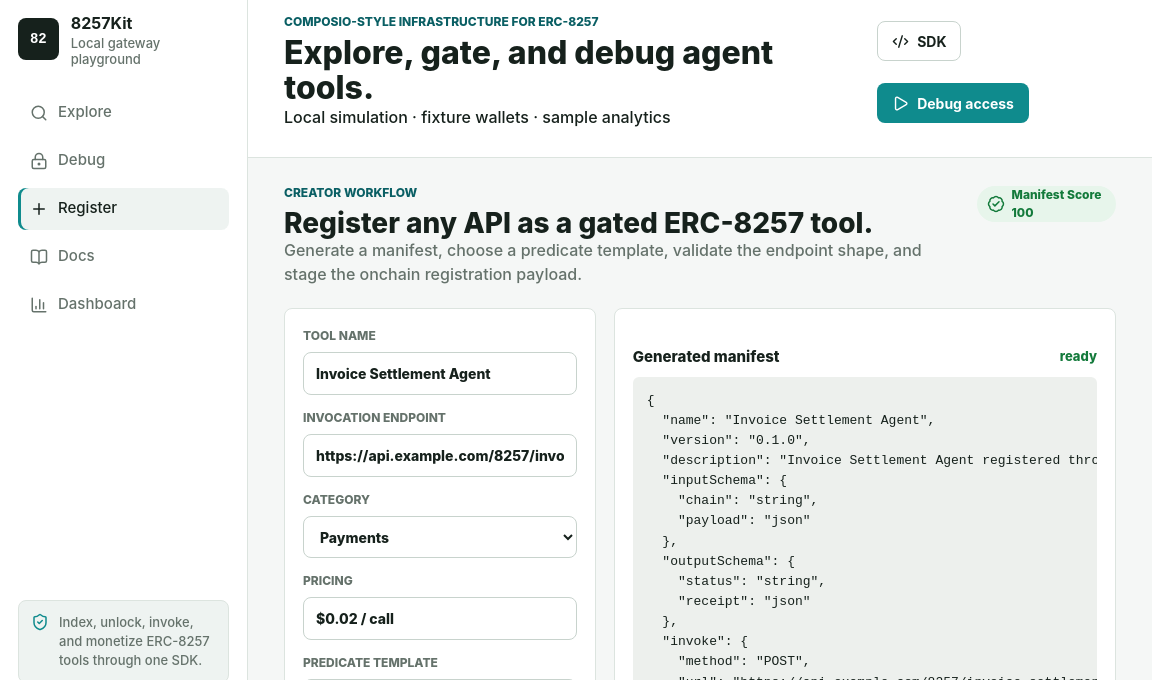
Test case: 8257Kit app › validates a creator registration draft before staging
Replace the text in the field labelled "Invocation endpoint" with "http://localhost:8787/invoke" at point(440, 456), box [303,434,577,477]
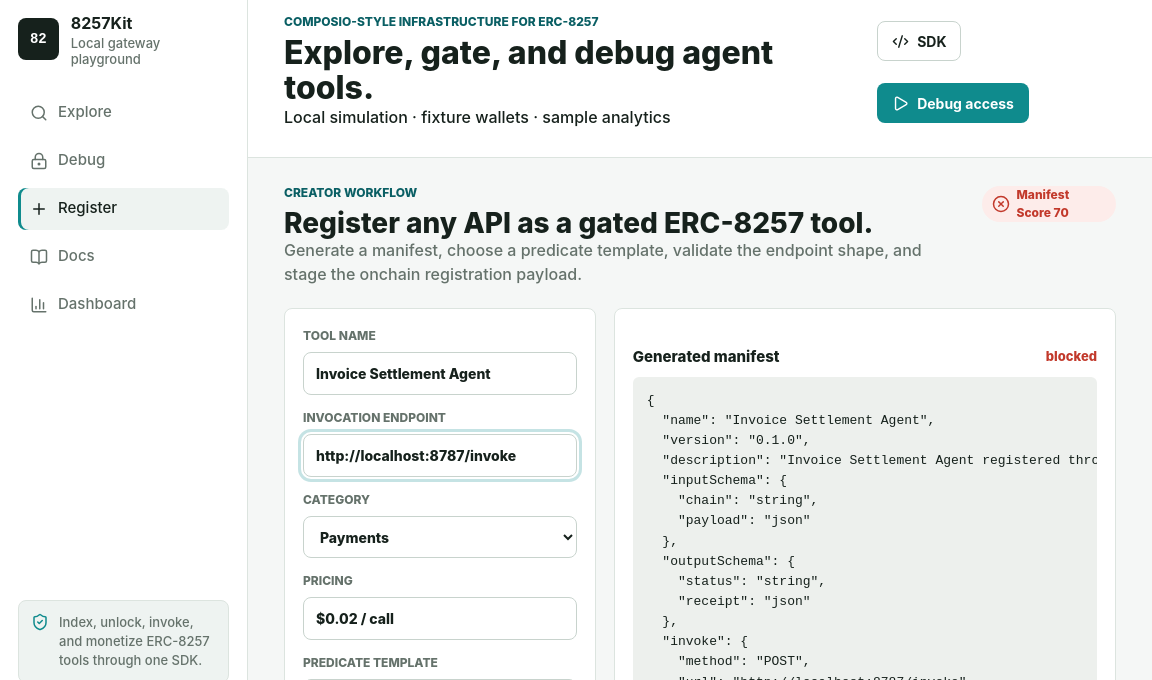
Replace the text in the field labelled "Invocation endpoint" with "https://api.example.com/8257/new-tool" at point(440, 456), box [303,434,577,477]
(page scrolled)
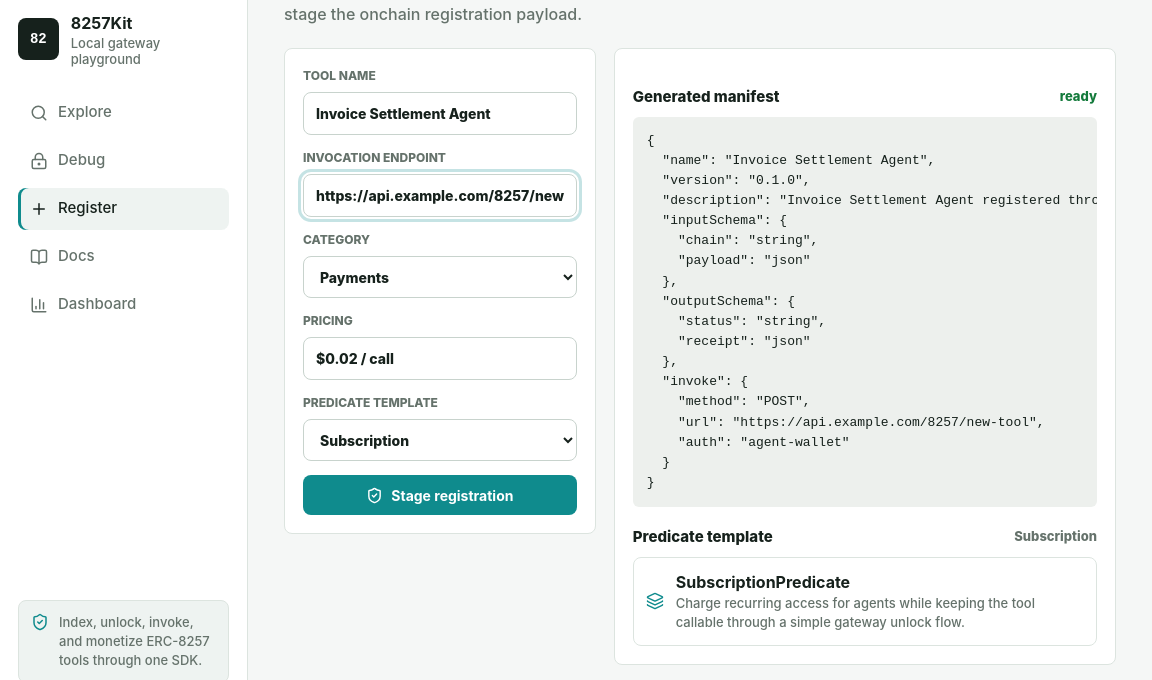
Click the button "Stage registration" at point(440, 495), box [303,475,577,515]
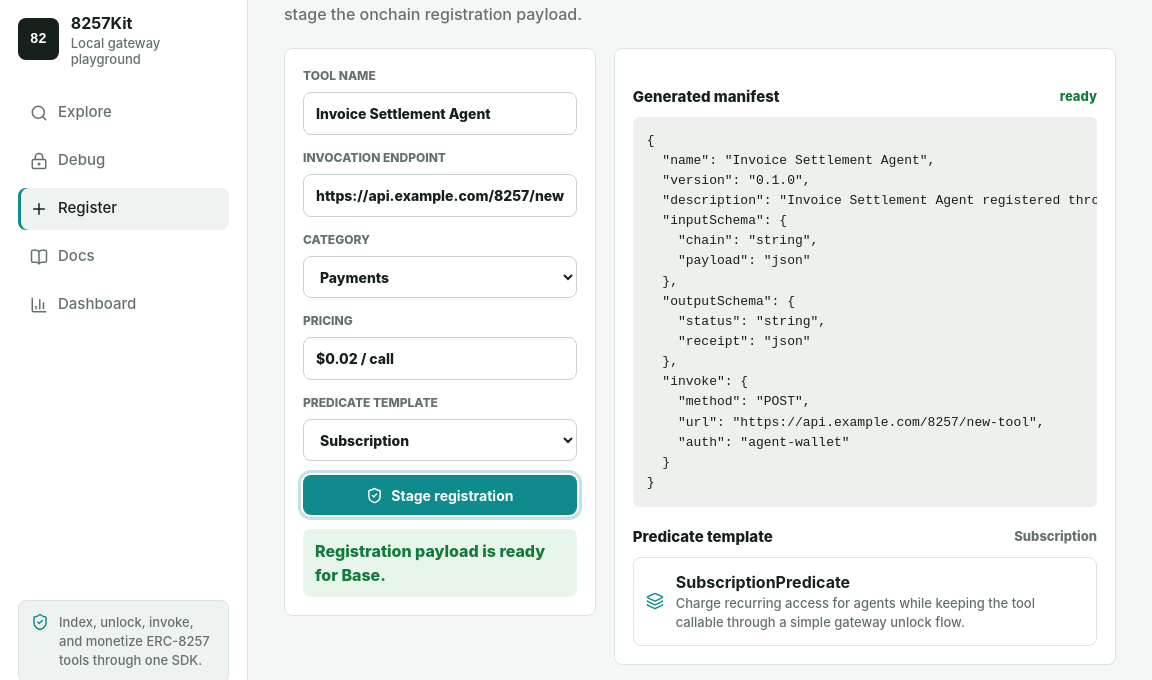
Result: the message reads "Registration payload is ready for Base." at [315,541,545,585]
